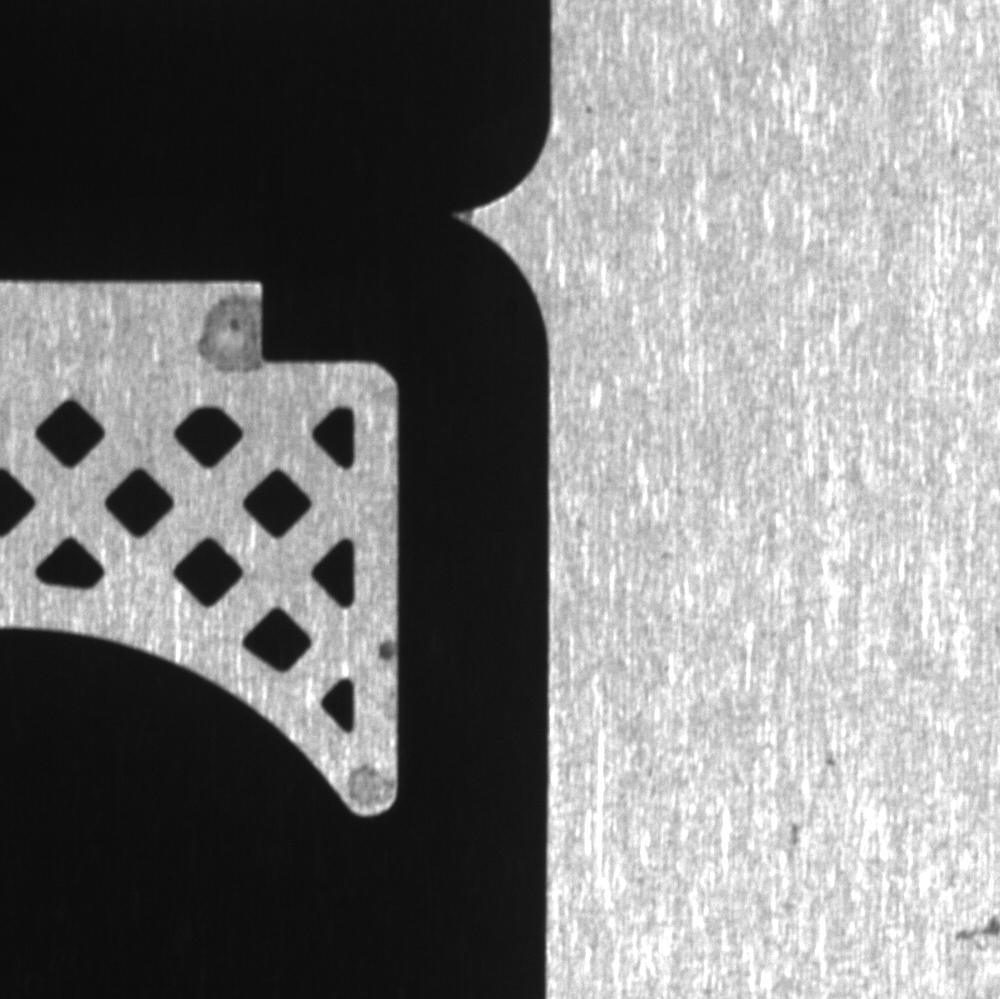Discolor: (173, 280, 276, 399), (925, 890, 1000, 997), (327, 741, 397, 813), (356, 621, 404, 673)
Etching: (780, 745, 848, 890)
